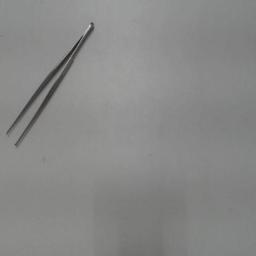Gillies Toothed Dissector: (2, 18, 104, 152)
